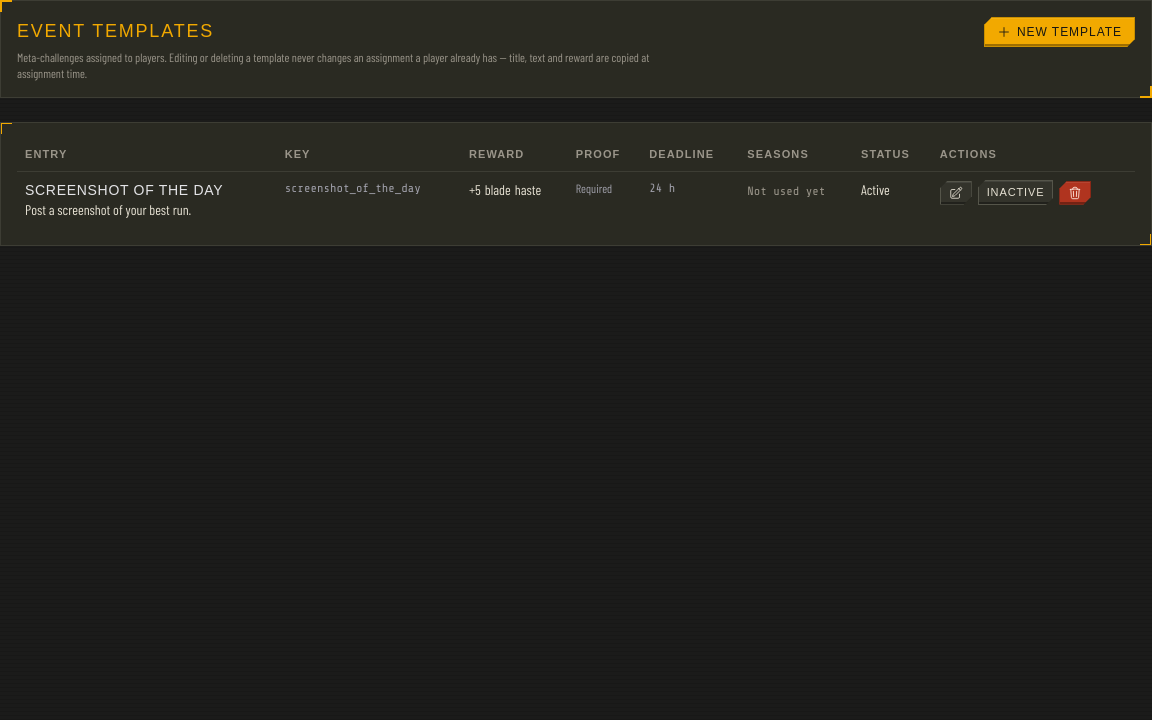
Test: EventTemplatesManager › opens the create form from the create button and closes it on cancel
Step 1. Click the button "New template" → (1059, 32), box [984,17,1135,47]
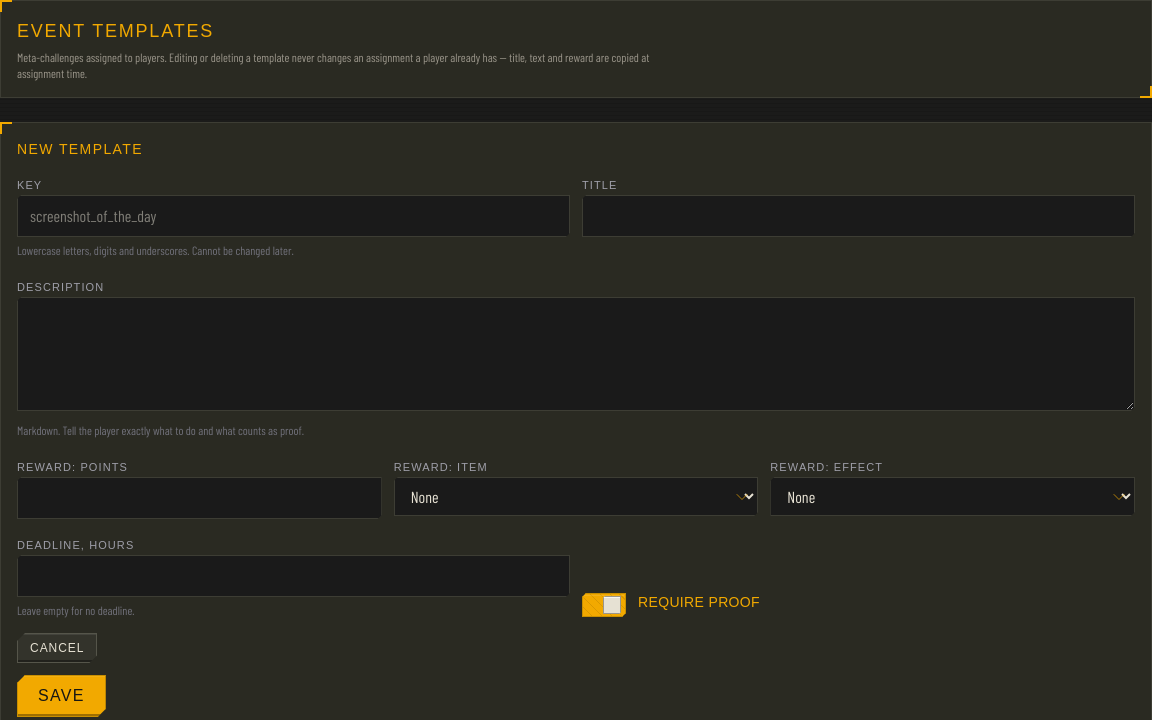
Check: the field named "key" is shown, box [17,195,570,237]
Check: the button "Save" is shown, box [17,675,106,717]
Step 2. Click the button "Cancel" → (57, 648), box [17,633,98,663]
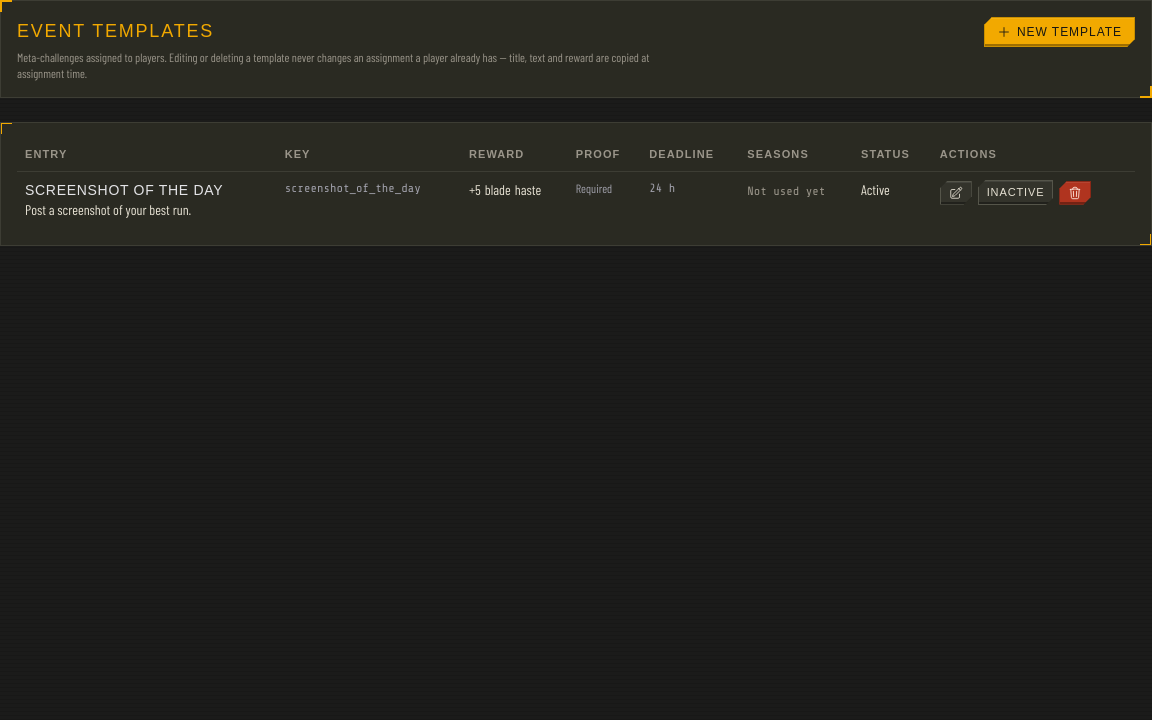
Check: the field named "key" is gone
